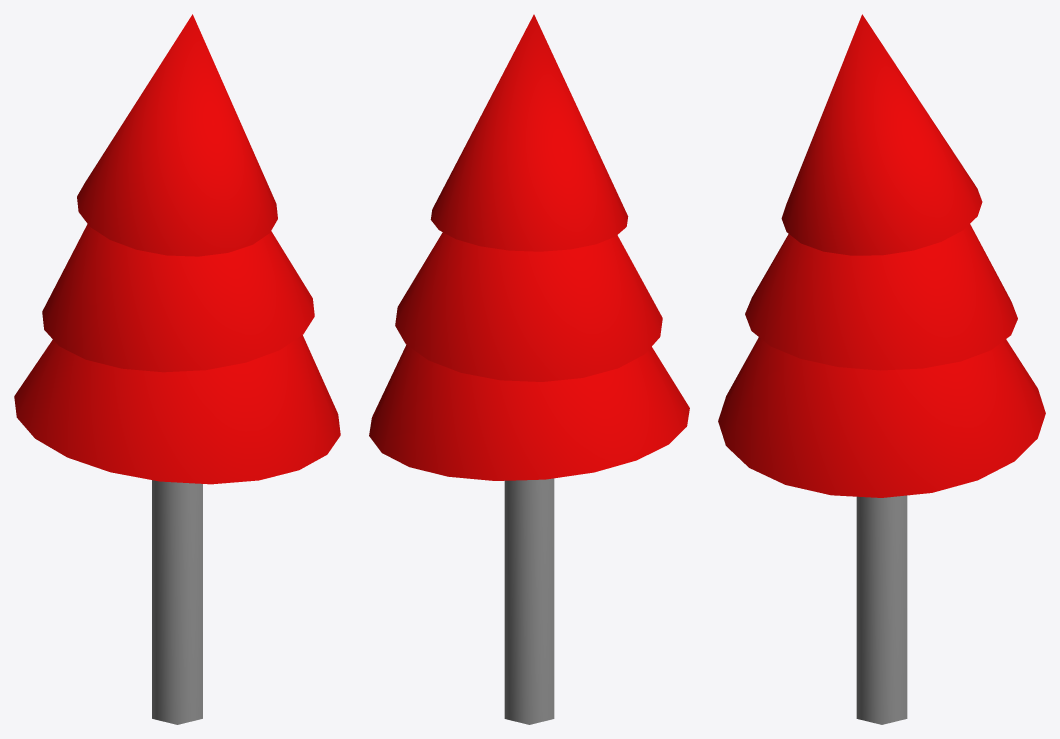
Rendered from SM_Tree.fbx.
3 renders of one model, left to right at view 1: azimuth 30°, elevation 25°; view 2: azimuth 150°, elevation 25°; view 3: azimuth 270°, elevation 25°, orthographic. The views are drawn at different scales.
Visible parts, largest first — view 1: SM_TreeTop01, SM_TreeTop02, SM_TreeTop03, SM_TreeTrunk; view 2: SM_TreeTop02, SM_TreeTop01, SM_TreeTop03, SM_TreeTrunk; view 3: SM_TreeTop01, SM_TreeTop02, SM_TreeTop03, SM_TreeTrunk.
Part boxes in pixels (bbox=[...]): SM_TreeTop01: bbox=[14, 335, 340, 484]; SM_TreeTop02: bbox=[42, 224, 314, 372]; SM_TreeTop03: bbox=[77, 14, 277, 256]; SM_TreeTrunk: bbox=[152, 480, 202, 724]; SM_TreeTop02: bbox=[395, 232, 662, 381]; SM_TreeTop01: bbox=[369, 345, 689, 480]; SM_TreeTop03: bbox=[430, 14, 628, 251]; SM_TreeTrunk: bbox=[504, 478, 554, 724]; SM_TreeTop01: bbox=[718, 337, 1045, 497]; SM_TreeTop02: bbox=[745, 224, 1017, 370]; SM_TreeTop03: bbox=[781, 14, 982, 255]; SM_TreeTrunk: bbox=[856, 495, 907, 724].
Bounding box in the file's own units: 11.73 × 27.76 × 11.77.
